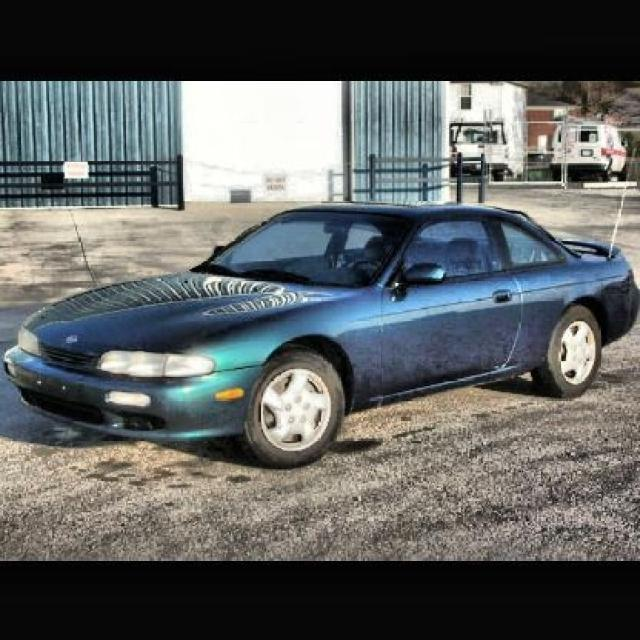blue: (22, 185, 628, 452)
